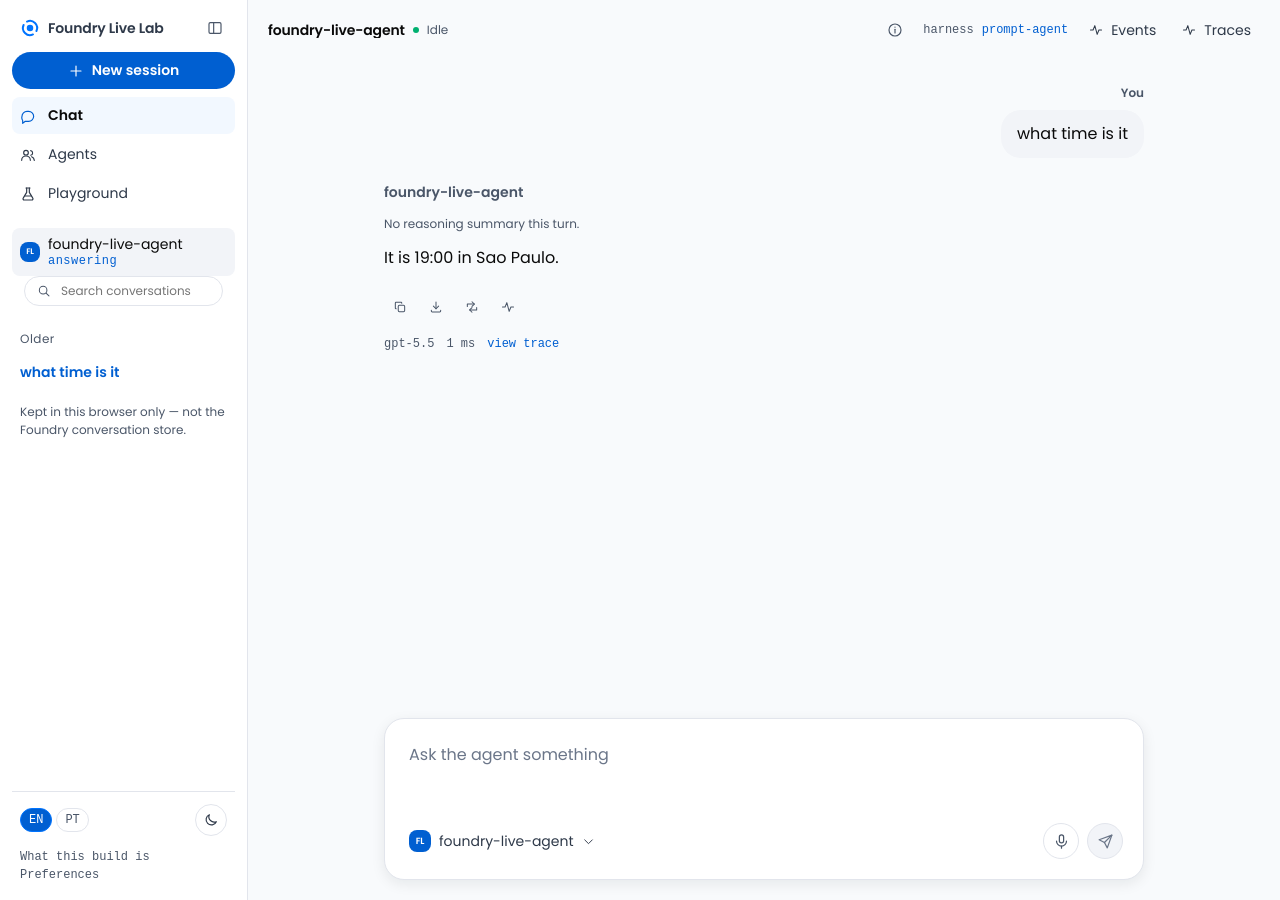
Test: leaving a conversation (AC2) › takes the address with it, so the route does not put the conversation straight back
Check: the text "It is 19:00 in Sao Paulo." is shown, box [384, 246, 559, 269]
Click the button "New session" at (124, 70), box [12, 52, 235, 89]
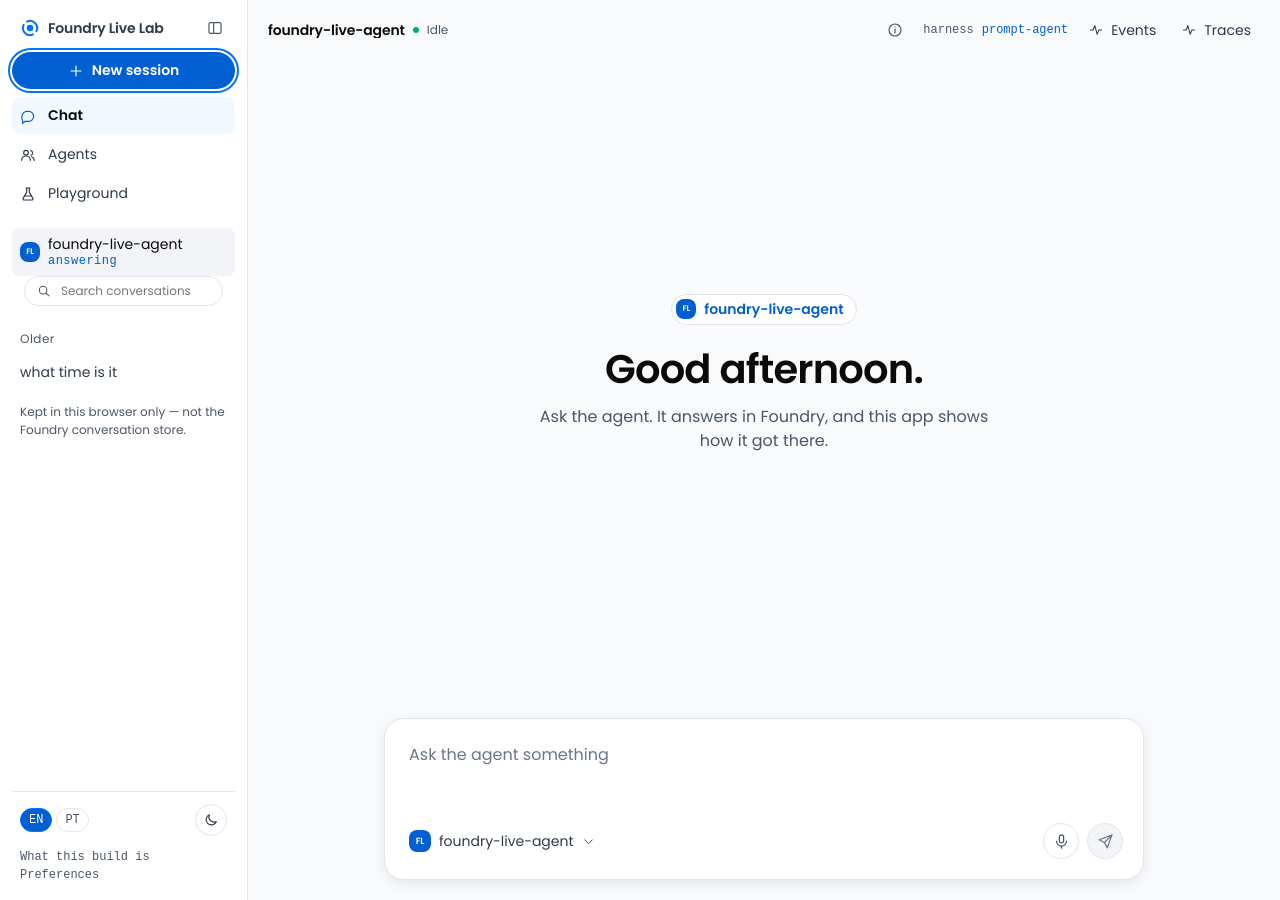
Check: the text "It is 19:00 in Sao Paulo." is gone
